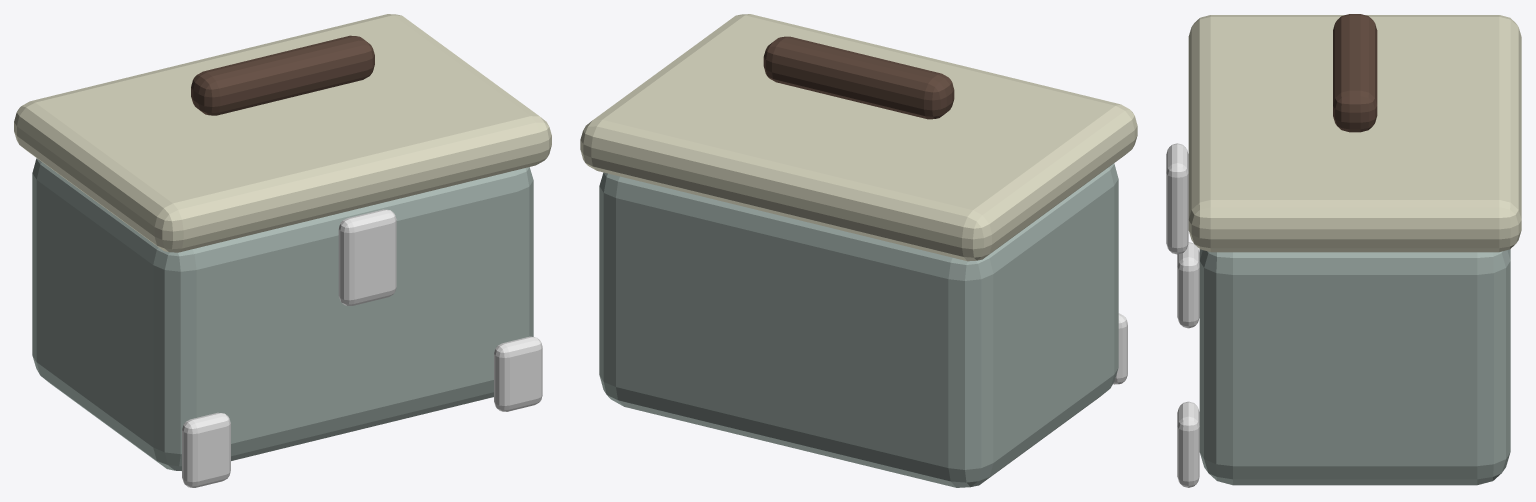
The model's file is chain_10003.glb.
3 renders of one model, left to right at view 1: azimuth 30°, elevation 25°; view 2: azimuth 150°, elevation 25°; view 3: azimuth 270°, elevation 25°, orthographic. The views are drawn at different scales.
Visible parts, largest first — view 1: Toolbox body, Lid, Handle, Latch, Corner guard, Corner guard.001; view 2: Toolbox body, Lid, Handle, Corner guard; view 3: Lid, Toolbox body, Handle, Latch, Corner guard.001, Corner guard.
Boxes of the visible parts, left/top/right/bottom form: Toolbox body: left=32, top=158, right=533, bottom=470; Lid: left=14, top=14, right=551, bottom=252; Handle: left=191, top=35, right=374, bottom=115; Latch: left=338, top=209, right=396, bottom=305; Corner guard: left=182, top=412, right=230, bottom=487; Corner guard.001: left=494, top=336, right=542, bottom=411; Toolbox body: left=599, top=163, right=1118, bottom=487; Lid: left=580, top=14, right=1137, bottom=261; Handle: left=763, top=36, right=954, bottom=119; Corner guard: left=1113, top=313, right=1127, bottom=384; Lid: left=1188, top=15, right=1521, bottom=252; Toolbox body: left=1199, top=249, right=1510, bottom=485; Handle: left=1333, top=14, right=1377, bottom=132; Latch: left=1166, top=143, right=1188, bottom=254; Corner guard.001: left=1177, top=401, right=1199, bottom=487; Corner guard: left=1177, top=242, right=1199, bottom=328.
Size of the model in its own units: 0.86 by 0.69 by 0.64.
